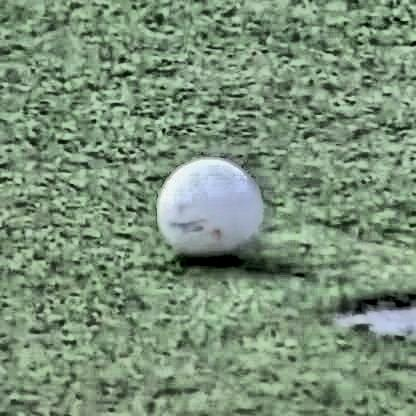golfball: (154, 158, 260, 260)
